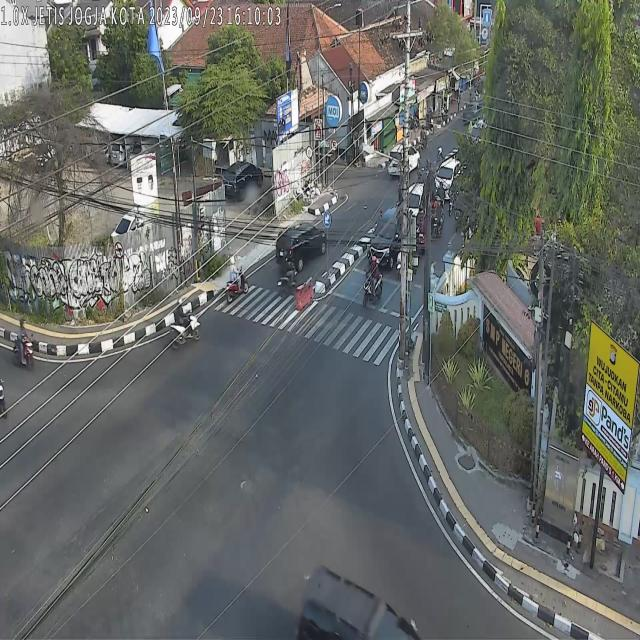car: (295, 559, 421, 640), (277, 221, 328, 271), (367, 207, 401, 268), (434, 157, 462, 200), (388, 144, 421, 177), (408, 183, 426, 217)
motorcycle: (169, 297, 202, 350), (224, 255, 250, 303), (13, 317, 35, 373), (362, 256, 383, 306), (433, 200, 444, 240)
